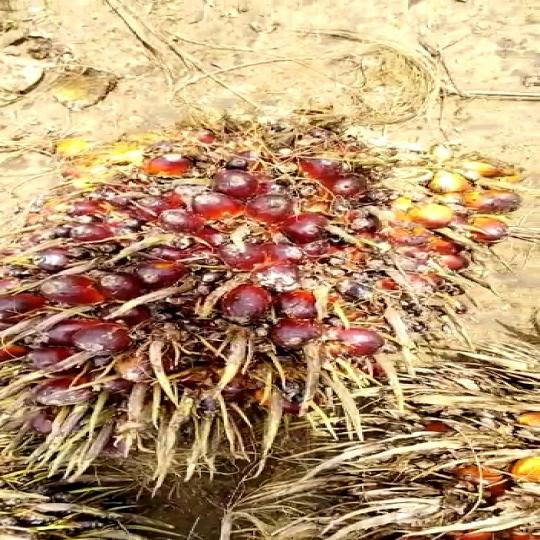masak: (4, 107, 528, 441)
